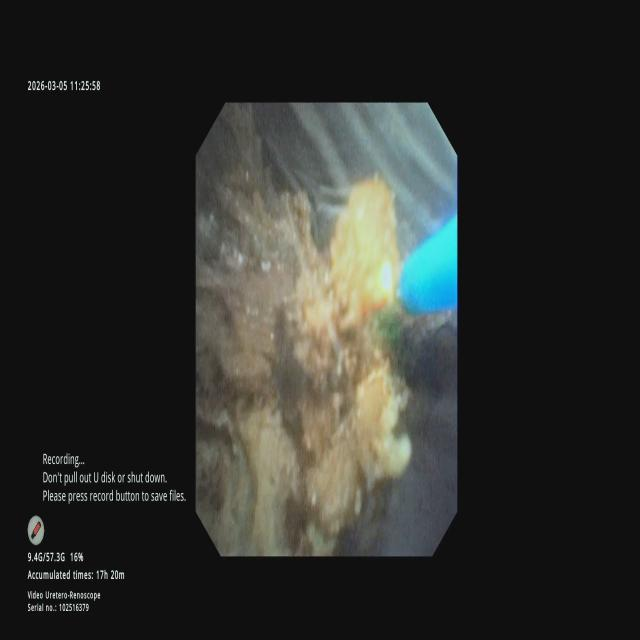stone-new: (196, 104, 417, 555)
